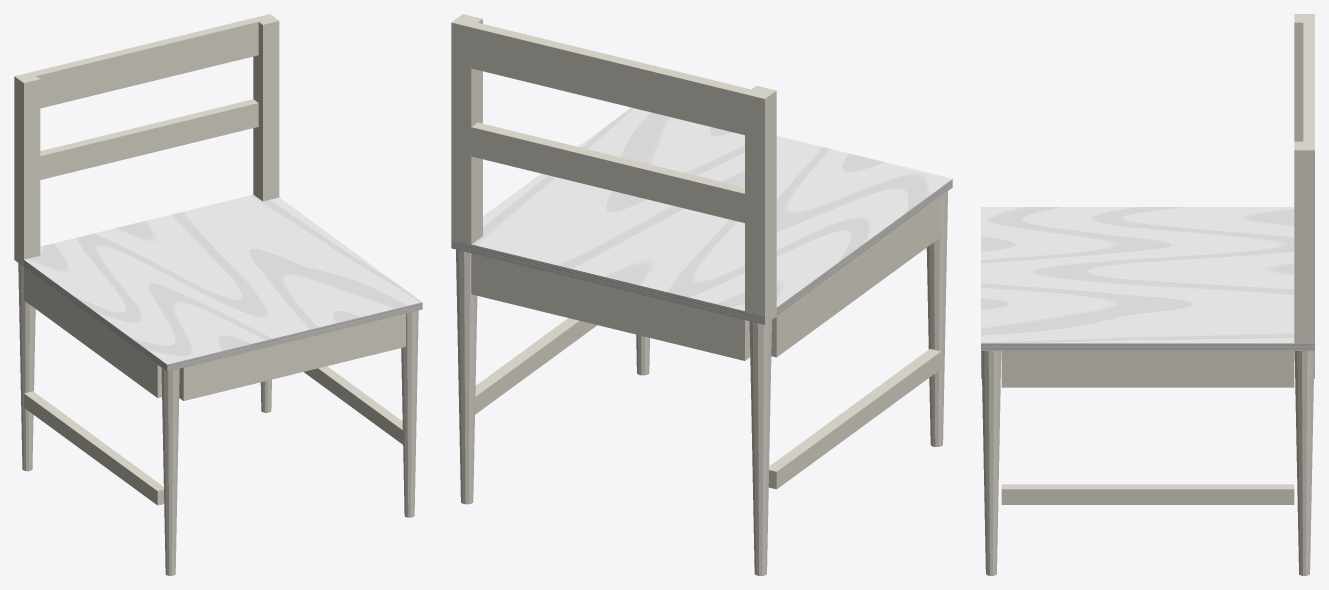
Rendered from LIT-ACC-std.glb.
3 views of the same model, side by side, from view 1: azimuth 30°, elevation 25°; view 2: azimuth 150°, elevation 25°; view 3: azimuth 270°, elevation 25° (orthographic). The views are drawn at different scales.
Visible parts, largest first — view 1: seat:sheet:eyJtIjoicGx5Iiwic2lkZSI6ImZhY2UiLCJzZWVkIjo2LCJ2Z, back-top:pbr, rail-f:pbr, leg-bl:pbr, back-mid:pbr, leg-br:pbr, rail-l:pbr, stretcher-l:pbr, leg-fl:pbr, leg-fr:pbr, stretcher-r:pbr, seat:sheet:eyJtIjoicGx5Iiwic2lkZSI6ImVkZ2UtZW5kIiwic2VlZCI6N (+1 smaller); view 2: seat:sheet:eyJtIjoicGx5Iiwic2lkZSI6ImZhY2UiLCJzZWVkIjo2LCJ2Z, back-top:pbr, leg-bl:pbr, rail-b:pbr, leg-br:pbr, back-mid:pbr, rail-l:pbr, stretcher-l:pbr, leg-fl:pbr, stretcher-r:pbr, seat:sheet:eyJtIjoicGx5Iiwic2lkZSI6ImVkZ2UtZW5kIiwic2VlZCI6N, seat:sheet:eyJtIjoicGx5Iiwic2lkZSI6ImVkZ2UtbG9uZyIsInNlZWQiO; view 3: seat:sheet:eyJtIjoicGx5Iiwic2lkZSI6ImZhY2UiLCJzZWVkIjo2LCJ2Z, rail-r:pbr, leg-br:pbr, stretcher-r:pbr, leg-fr:pbr, seat:sheet:eyJtIjoicGx5Iiwic2lkZSI6ImVkZ2UtbG9uZyIsInNlZWQiO, back-top:pbr, leg-bl:pbr.
Boxes of the visible parts, x1,y1,x2,y2 form: seat:sheet:eyJtIjoicGx5Iiwic2lkZSI6ImZhY2UiLCJzZWVkIjo2LCJ2Z: [24, 194, 421, 364]; back-top:pbr: [31, 18, 258, 108]; rail-f:pbr: [179, 313, 405, 400]; leg-bl:pbr: [14, 72, 40, 471]; back-mid:pbr: [40, 99, 258, 179]; leg-br:pbr: [253, 14, 279, 412]; rail-l:pbr: [24, 267, 161, 397]; stretcher-l:pbr: [24, 391, 164, 505]; leg-fl:pbr: [161, 368, 179, 575]; leg-fr:pbr: [401, 310, 418, 517]; stretcher-r:pbr: [304, 366, 402, 444]; seat:sheet:eyJtIjoicGx5Iiwic2lkZSI6ImVkZ2UtZW5kIiwic2VlZCI6N: [167, 302, 422, 371]; seat:sheet:eyJtIjoicGx5Iiwic2lkZSI6ImZhY2UiLCJzZWVkIjo2LCJ2Z: [471, 107, 952, 310]; back-top:pbr: [471, 23, 750, 134]; leg-bl:pbr: [745, 85, 776, 575]; rail-b:pbr: [471, 253, 750, 360]; leg-br:pbr: [451, 14, 482, 504]; back-mid:pbr: [471, 122, 744, 222]; rail-l:pbr: [771, 196, 940, 357]; stretcher-l:pbr: [768, 349, 940, 489]; leg-fl:pbr: [926, 191, 947, 446]; stretcher-r:pbr: [475, 318, 597, 414]; seat:sheet:eyJtIjoicGx5Iiwic2lkZSI6ImVkZ2UtZW5kIiwic2VlZCI6N: [451, 239, 764, 324]; seat:sheet:eyJtIjoicGx5Iiwic2lkZSI6ImVkZ2UtbG9uZyIsInNlZWQiO: [776, 179, 952, 315]; seat:sheet:eyJtIjoicGx5Iiwic2lkZSI6ImZhY2UiLCJzZWVkIjo2LCJ2Z: [981, 207, 1294, 343]; rail-r:pbr: [1001, 351, 1294, 387]; leg-br:pbr: [1294, 141, 1314, 575]; stretcher-r:pbr: [1001, 484, 1294, 504]; leg-fr:pbr: [981, 351, 1001, 575]; seat:sheet:eyJtIjoicGx5Iiwic2lkZSI6ImVkZ2UtbG9uZyIsInNlZWQiO: [981, 343, 1314, 350]; back-top:pbr: [1303, 22, 1314, 141]; leg-bl:pbr: [1294, 14, 1314, 141].
Bounding box in the file's own units: 0.5601 × 0.82 × 0.58.
15 materials, 3 textured.
